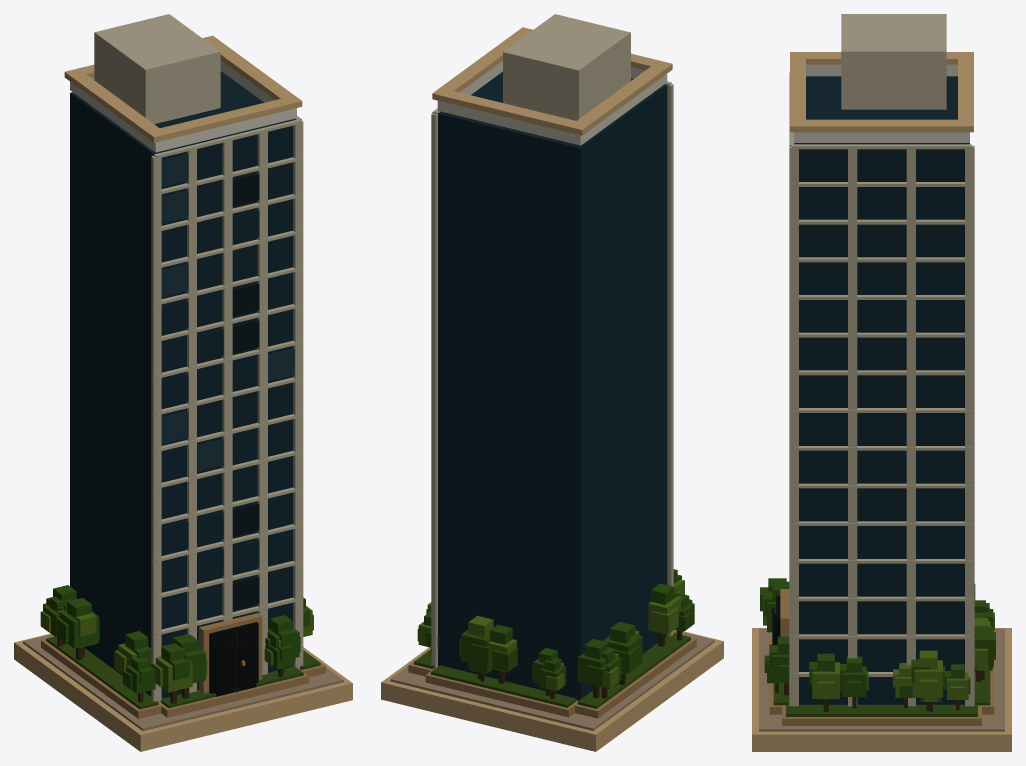
File: SM_Mapa_009.fbx
3 views of the same model, side by side, from view 1: azimuth 30°, elevation 25°; view 2: azimuth 150°, elevation 25°; view 3: azimuth 270°, elevation 25° (orthographic). The views are drawn at different scales.
Visible parts, largest first — view 1: SM_Mapa_009; view 2: SM_Mapa_009; view 3: SM_Mapa_009.
Boxes of the visible parts, box(x1,y1,x2,y2) form: SM_Mapa_009: box(14, 14, 352, 751); SM_Mapa_009: box(381, 14, 723, 751); SM_Mapa_009: box(752, 14, 1011, 751).
Size of the model in its own units: 14 by 14.44 by 40.22.
